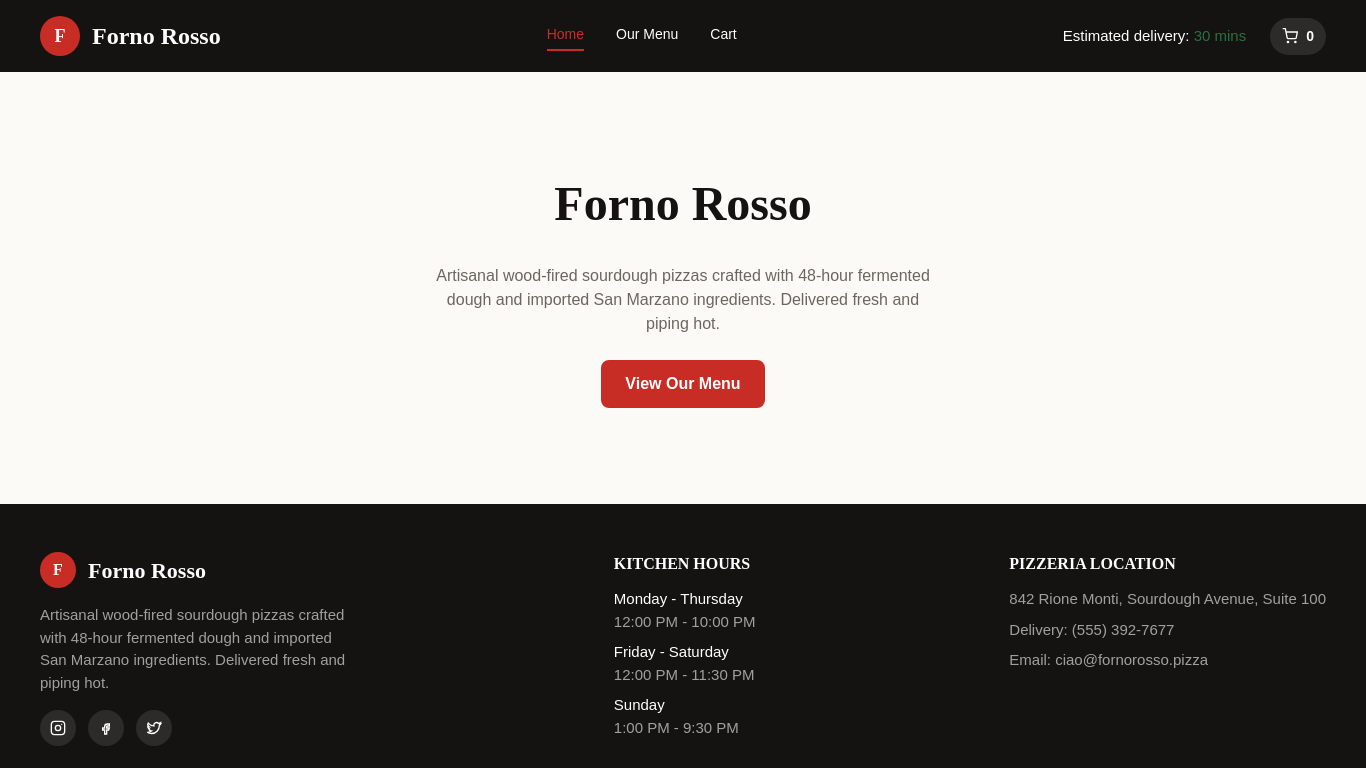
Test: App routing › reaches the menu page via the homepage hero link
What coordinates should you click on to do the following:
click the link "View Our Menu"
I would click on:
 (683, 384)
Its box is [601, 360, 765, 408].
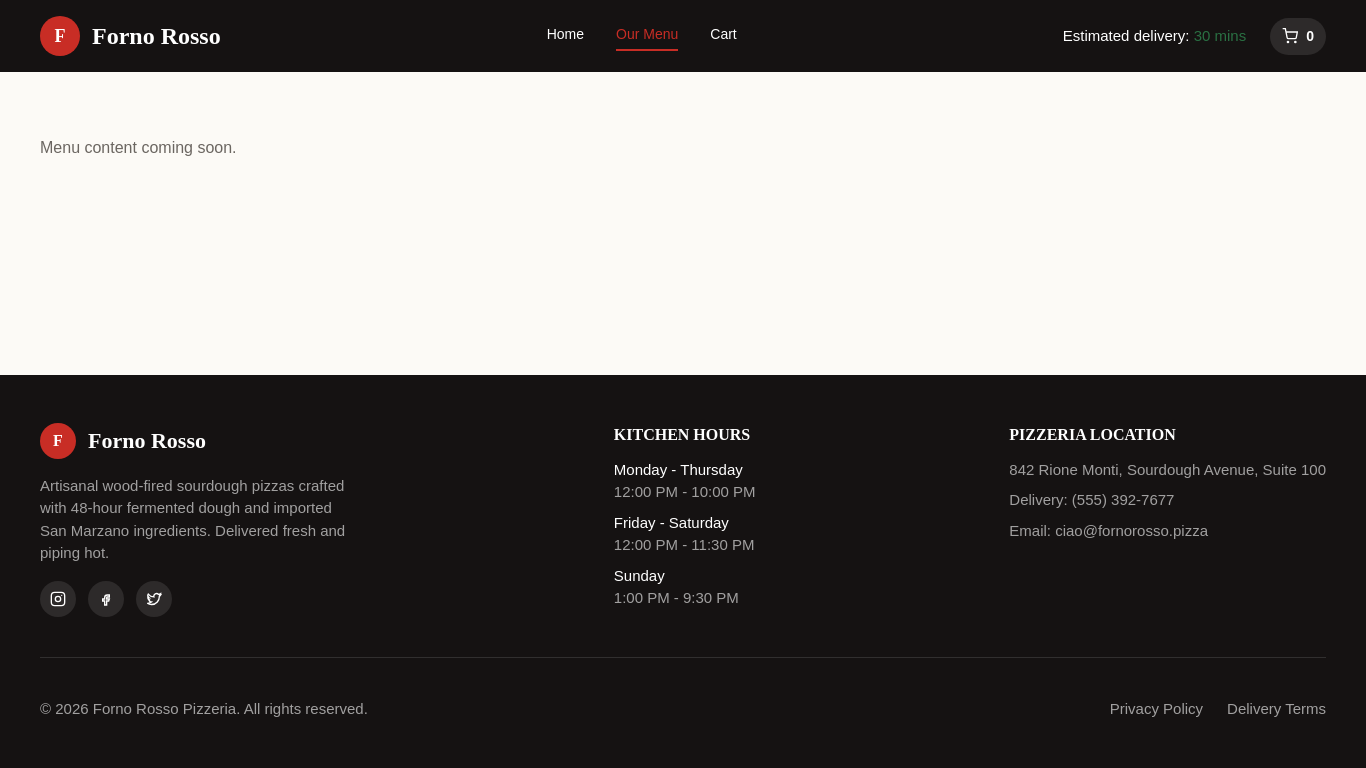
Now the element with test id "menu-page" is shown, box [40, 139, 237, 156]
